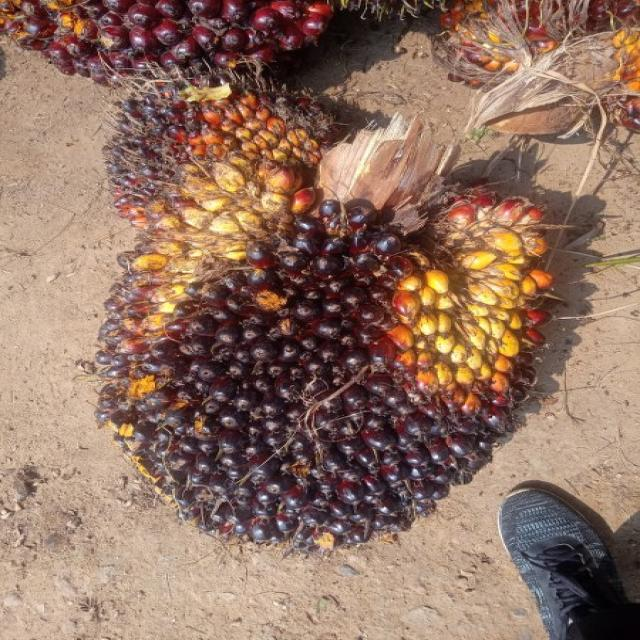fraksi 00: (91, 141, 544, 554), (55, 65, 354, 236)
